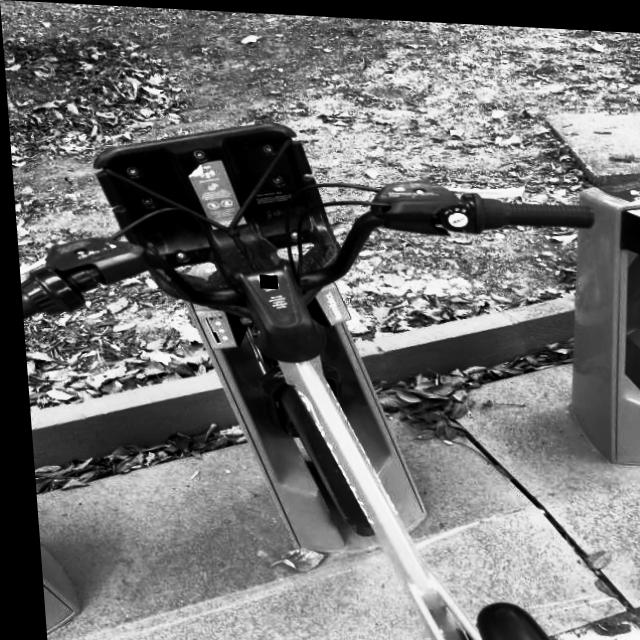qr_code: (255, 272, 274, 287)
